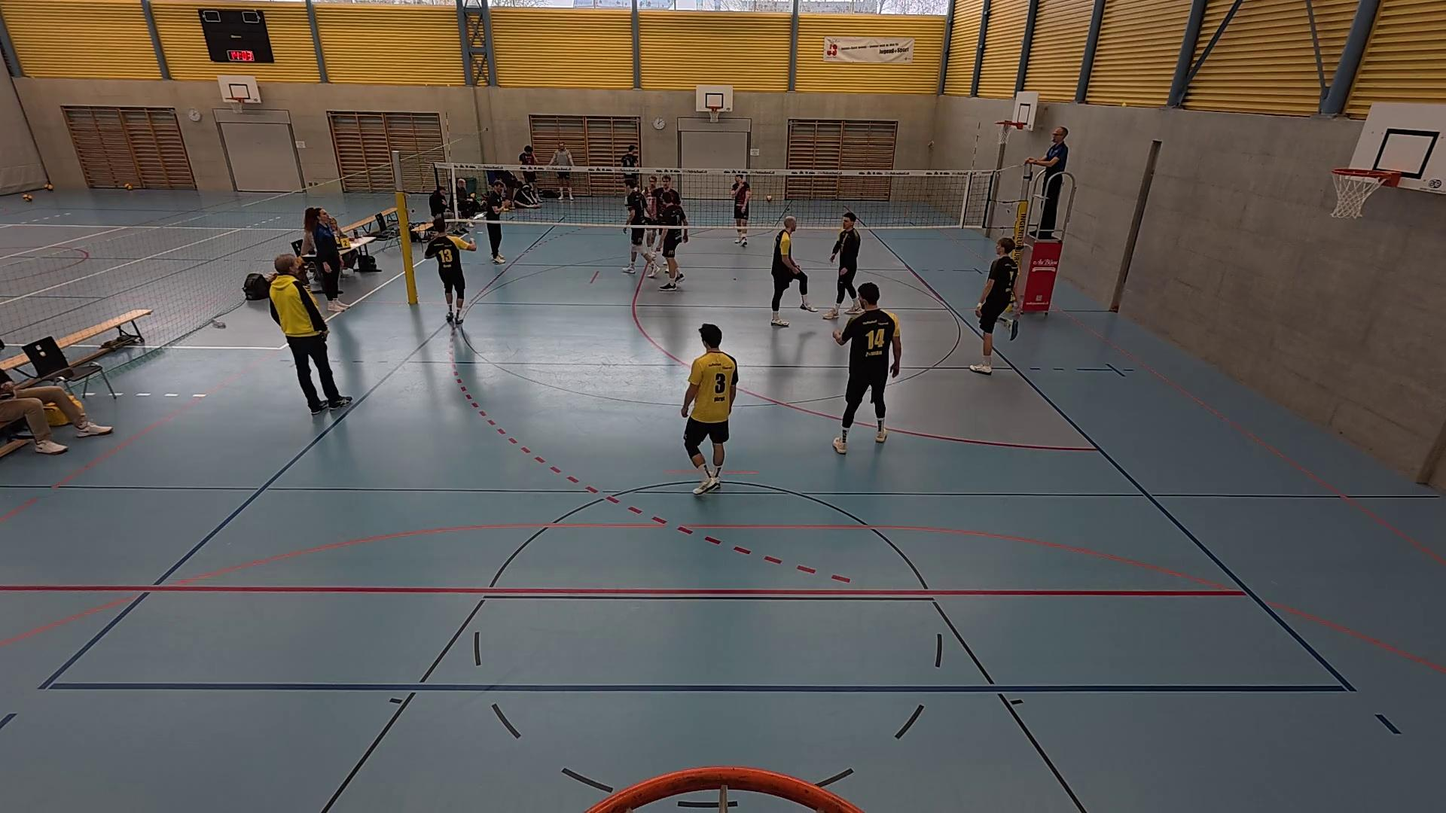Player: (831, 282, 901, 454), (680, 323, 737, 495), (970, 235, 1018, 374), (425, 224, 475, 325), (767, 216, 811, 327), (825, 211, 862, 320), (656, 198, 691, 289), (622, 180, 654, 274), (642, 175, 670, 272), (731, 174, 752, 247), (619, 146, 643, 205)
ball: (457, 234, 474, 251)
